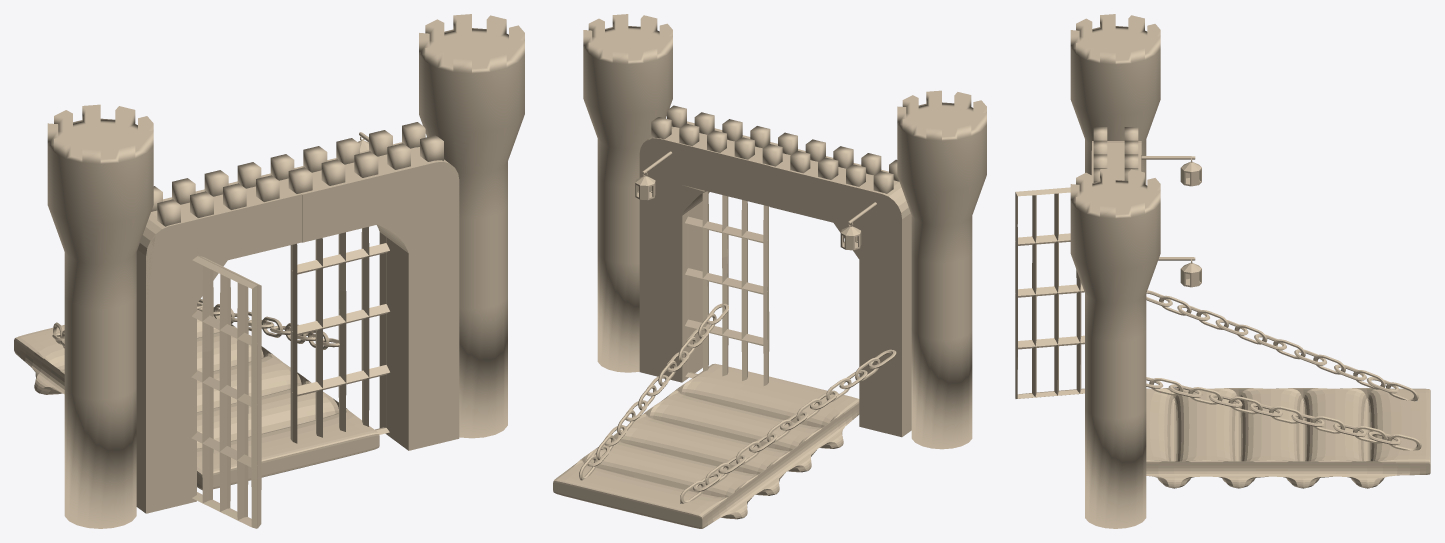
The model's file is Castle_Door (1).fbx.
The picture shows the model from 3 angles, left to right: view 1: azimuth 30°, elevation 25°; view 2: azimuth 150°, elevation 25°; view 3: azimuth 270°, elevation 25°; orthographic projection. The views are drawn at different scales.
Visible parts, largest first — view 1: Castle_Doors; view 2: Castle_Doors; view 3: Castle_Doors.
Part boxes in pixels (left/top/right/bottom): Castle_Doors: left=14, top=14, right=524, bottom=528; Castle_Doors: left=553, top=14, right=986, bottom=528; Castle_Doors: left=1015, top=14, right=1430, bottom=528.
Size of the model in its own units: 127 by 103 by 116.
